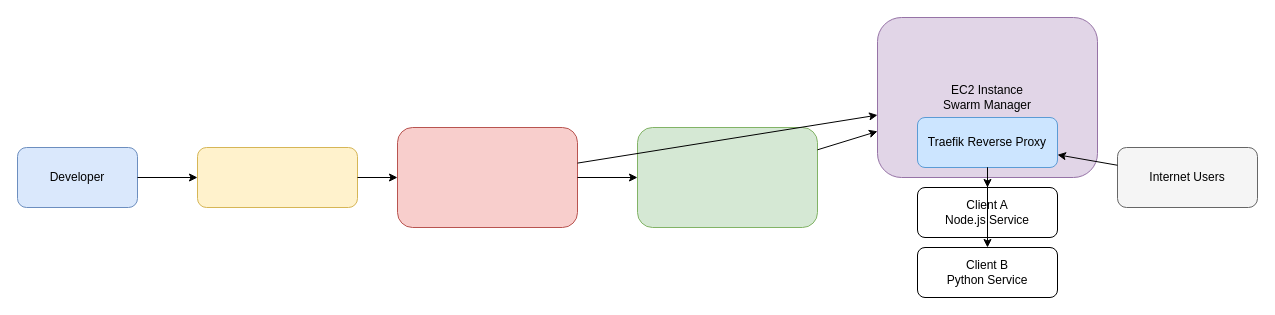
The diagram is 1275 pixels wide and 315 high, and some of its shapes have lost their labels. The centre of each missing label's shape, as x and y in pixels:
"AWS ECR Docker Registry" goes at point (727, 177).
"GitHub Actions CI/CD Pipeline" goes at point (487, 177).
"GitHub Repository" goes at point (277, 177).
